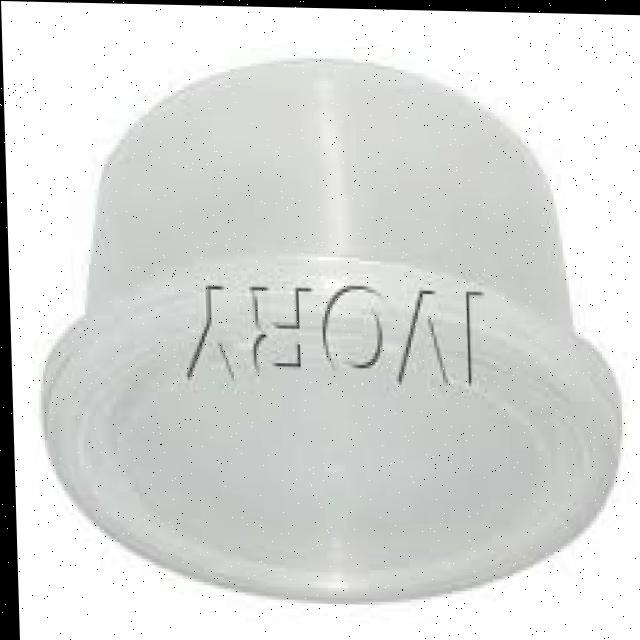disposable: (1, 33, 632, 628)
